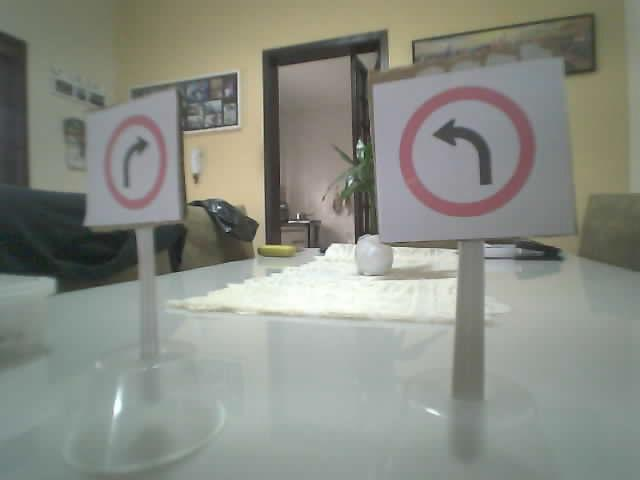R-25a_esquerda: (396, 85, 534, 216)
R-25b_direita: (102, 113, 167, 210)
